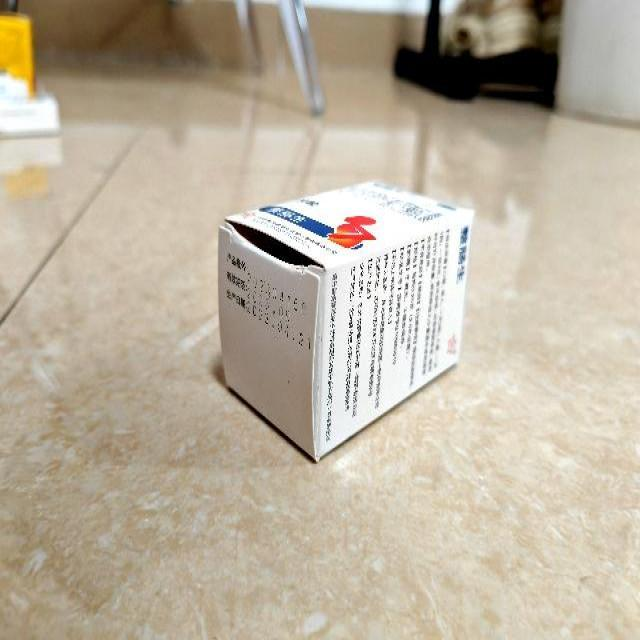box: (217, 180, 477, 464)
